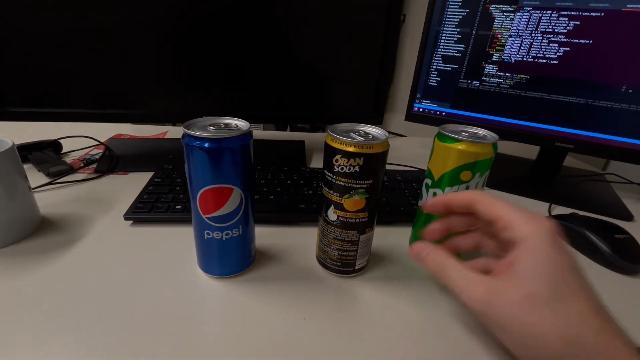OranSoda: (314, 122, 392, 280)
Pepsi: (179, 116, 259, 280)
Sprite: (408, 122, 498, 260)
